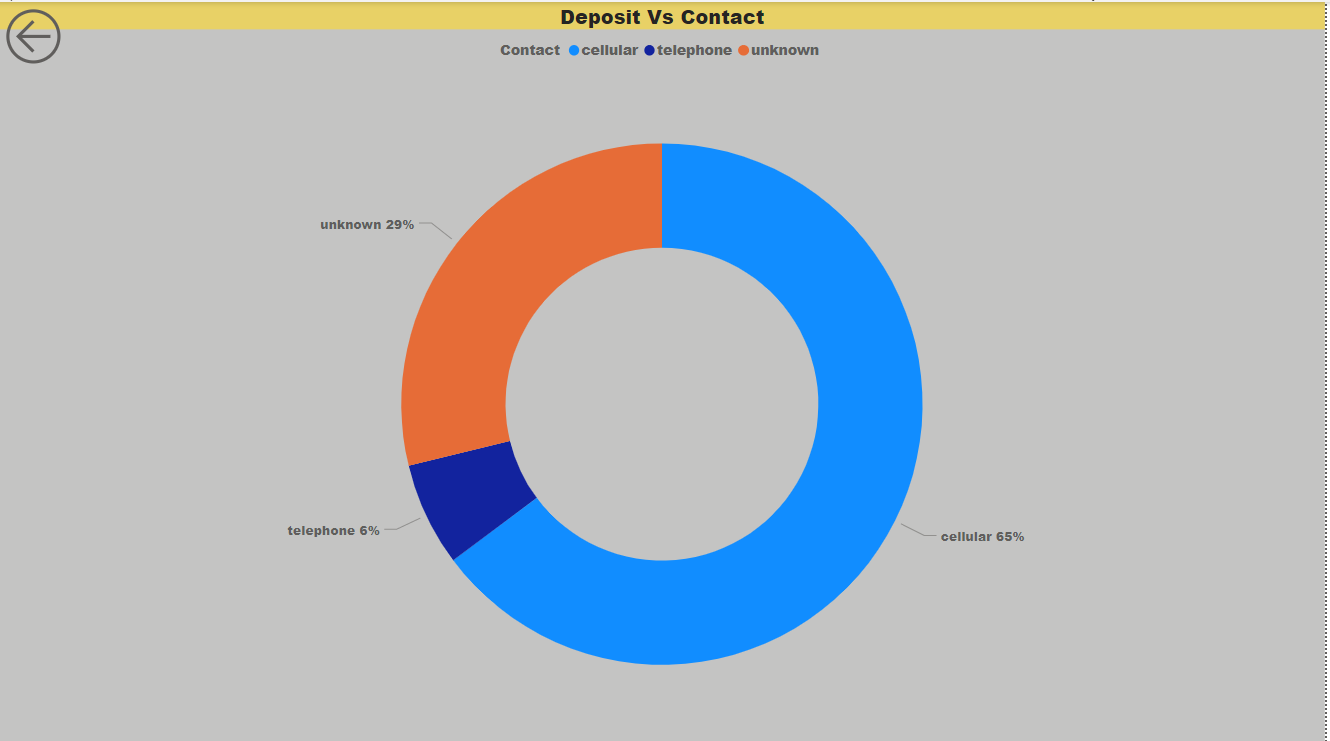

The dashboard page shown, as its layout file describes it:
{"tool":"powerbi","page":{"name":"Donut Chart for Contact","canvas":[1280,720],"ordinal":11},"visuals":[{"type":"donutChart","title":"Deposit Vs Contact","fields":{"Y":["CountNonNull(bank-full_New.Deposit)"],"Series":["bank-full_New.contact"]},"box":[0,0,1279.6,720],"z":0},{"type":"actionButton","box":[0,0,100.1,66.3],"z":1000}]}

Visuals, with their boxes in screenshot pixels (x1, y1, x2, y2), scaled from the page's 1280x720 canvas onto the 1330x741 screenshot:
"Deposit Vs Contact" donutChart: x1=0 y1=0 x2=1329 y2=740
actionButton: x1=0 y1=0 x2=104 y2=68
